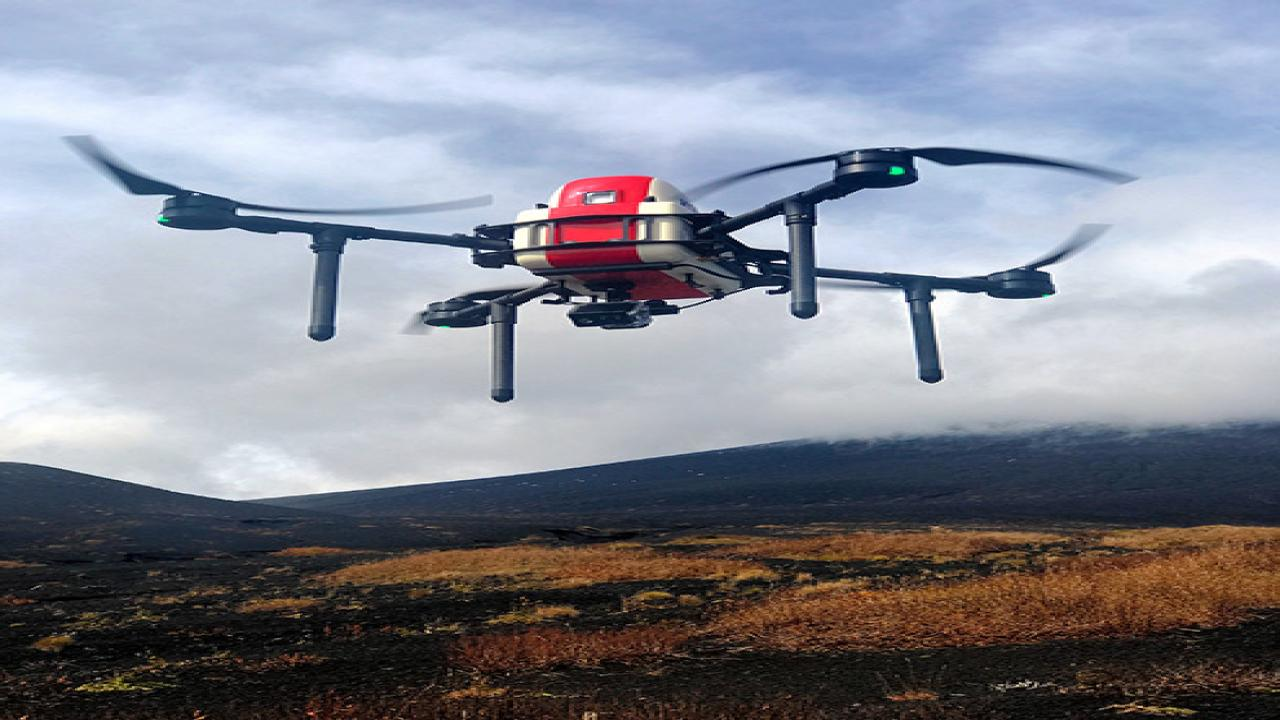Drone: (16, 128, 1168, 415)
